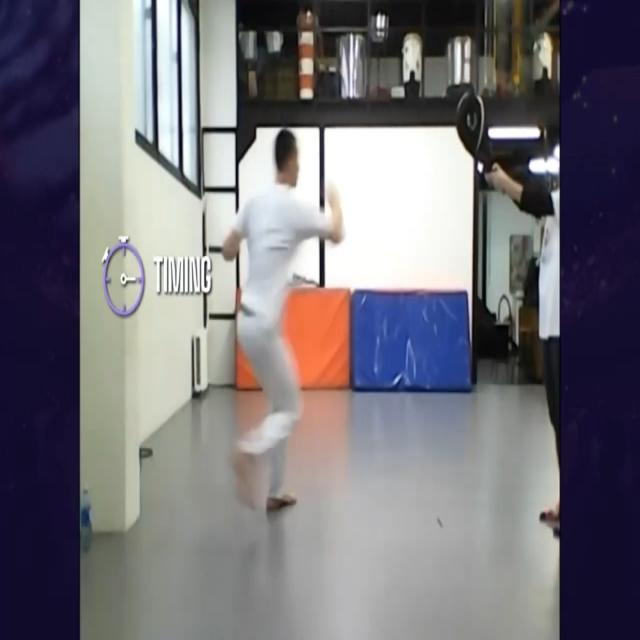paddle: (454, 82, 497, 172)
